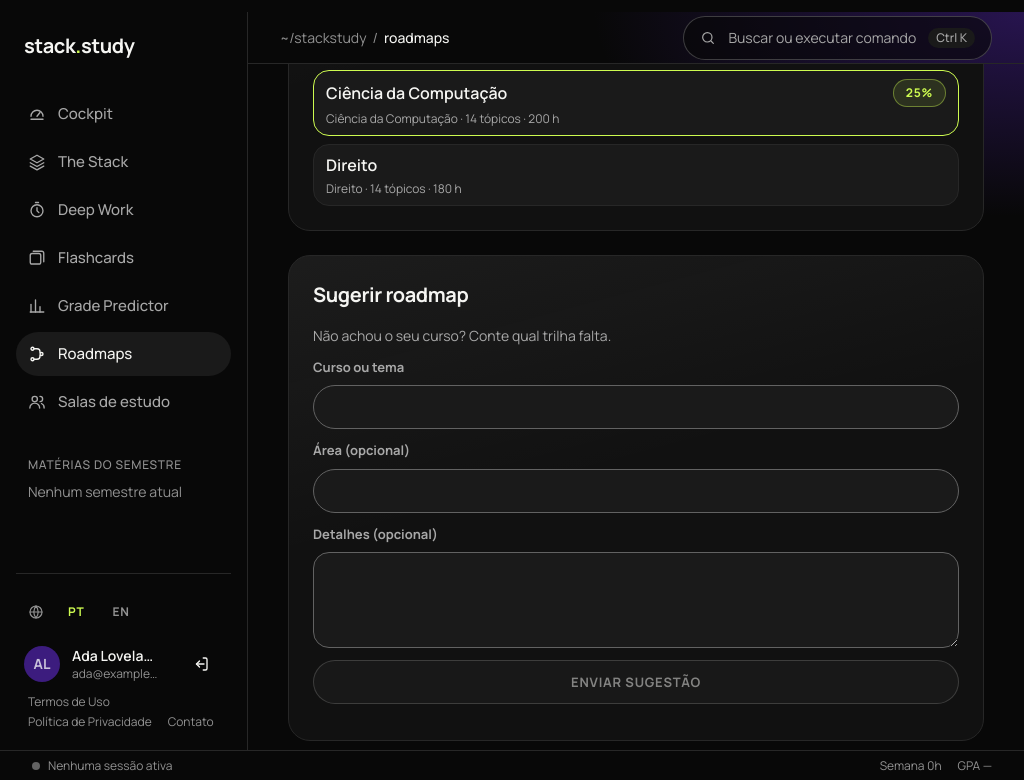
Scenario: Roadmaps › erro ao carregar e envio de sugestão
(page scrolled)
Type "Arquitetura" into the field labelled "Curso ou tema". click: (636, 407)
box: [313,385,959,429]
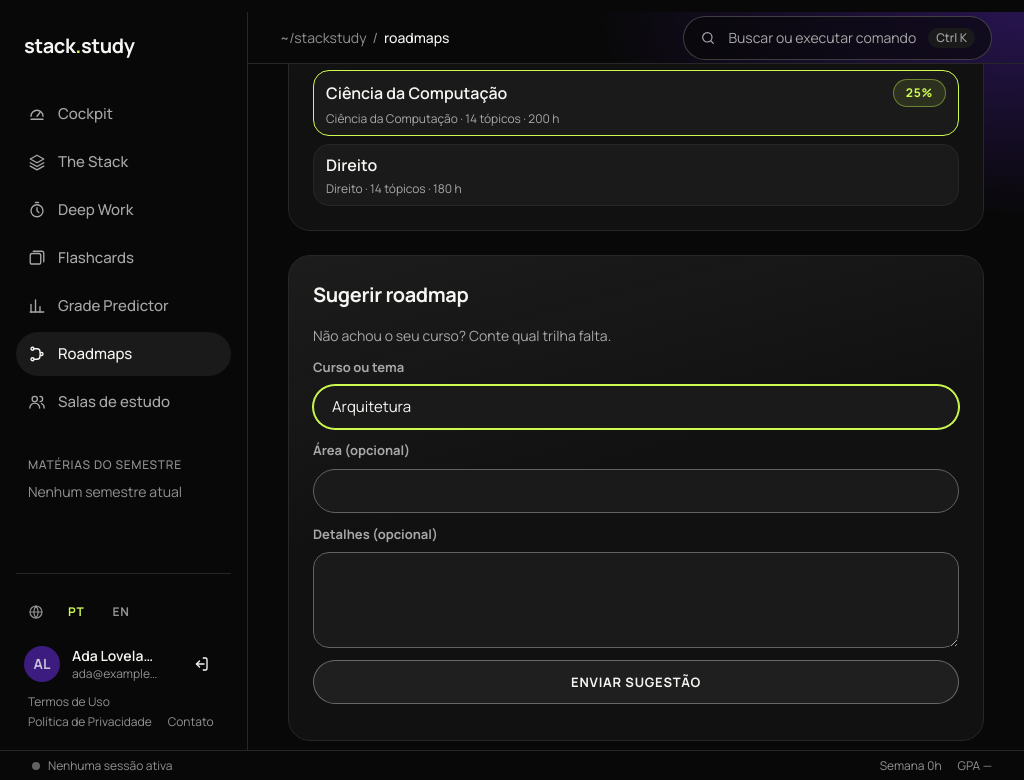
Click the button "Enviar sugestão". click: (636, 682)
box: [313,660,959,704]
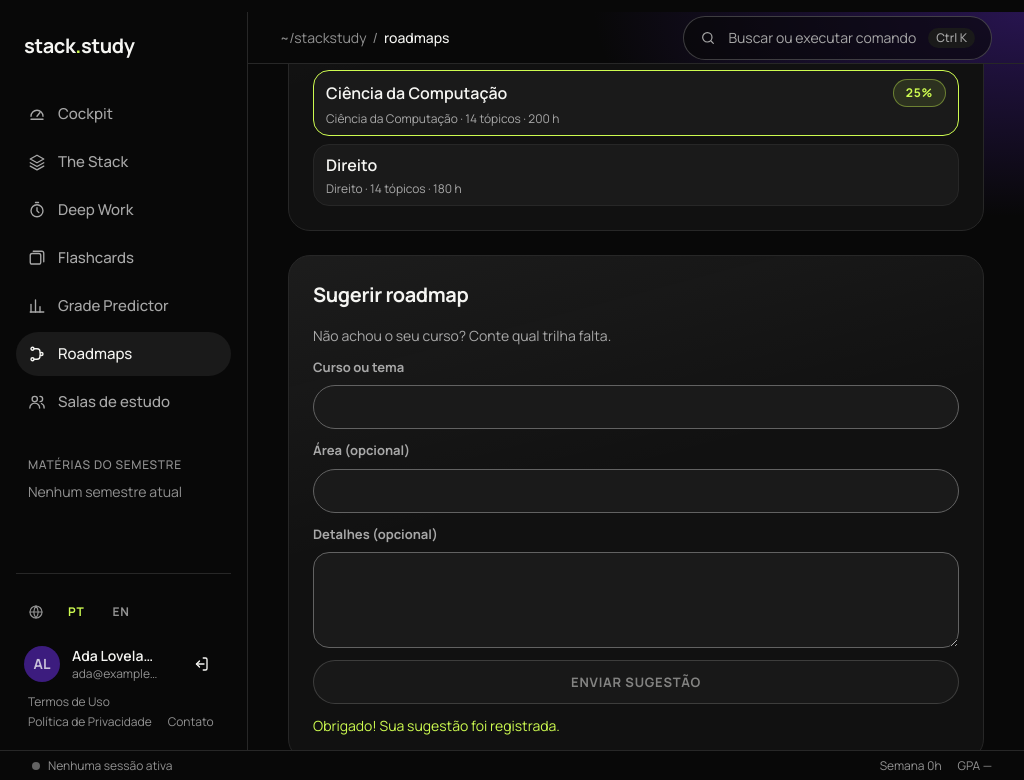
expect the text "Obrigado! Sua sugestão foi registrada." is shown: met, box [313,716,560,735]
